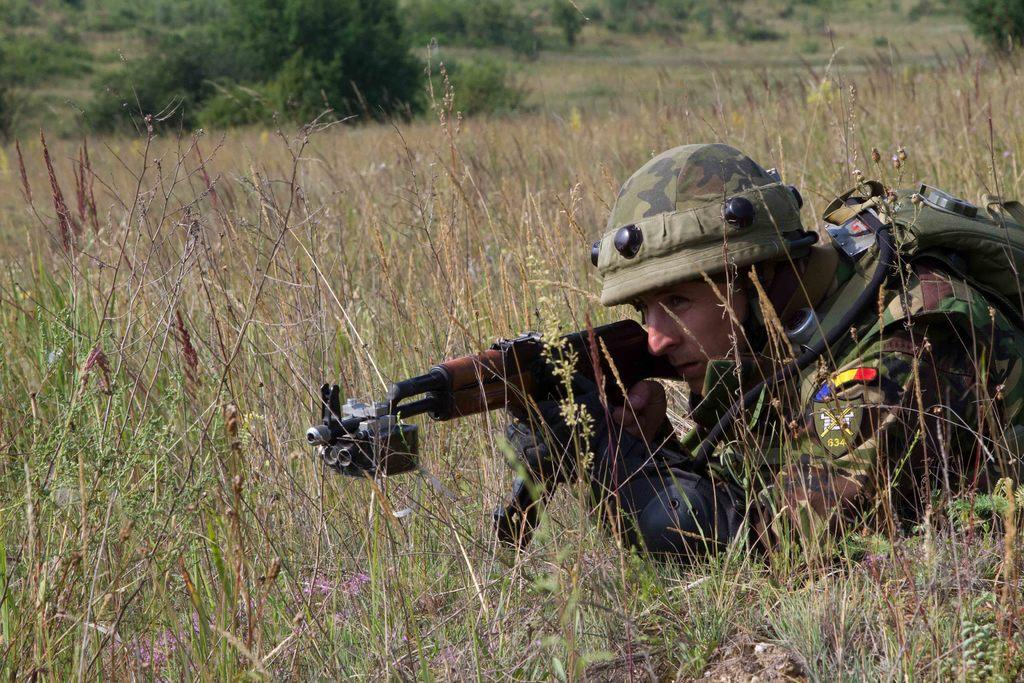non-violence: (534, 142, 1024, 564)
weapon: (320, 284, 742, 550)
